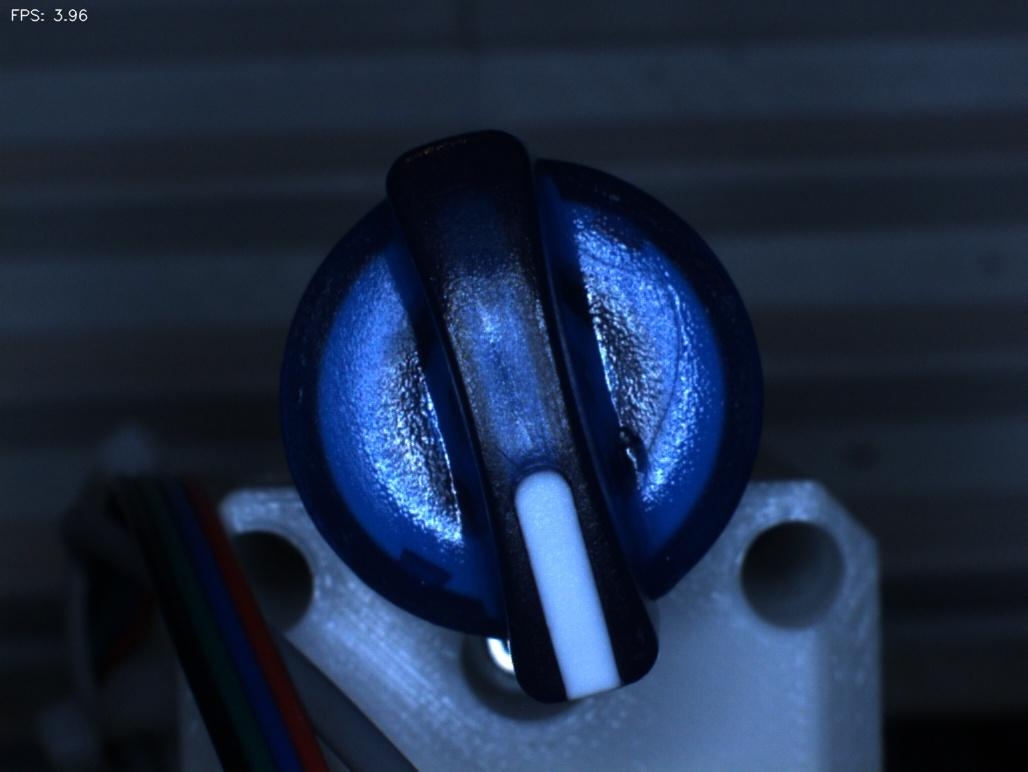Choc: (590, 411, 674, 504)
